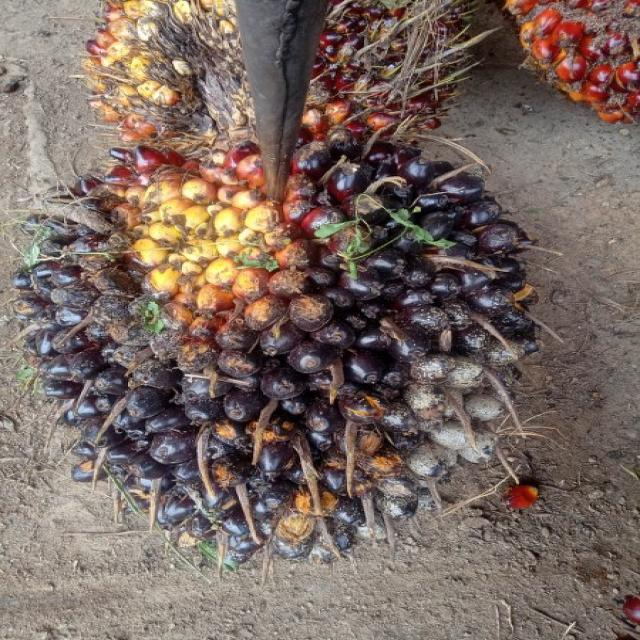fraksi 00: (29, 117, 532, 544)
